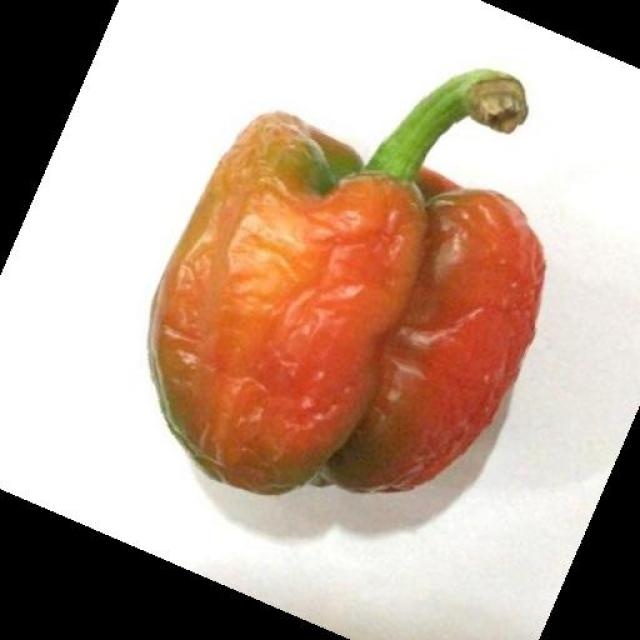Stale_Capsicum: (140, 43, 550, 512)
